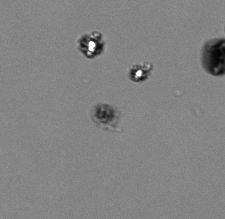Dead Cell: (202, 39, 224, 74), (94, 104, 115, 124)
Living Cell: (83, 36, 101, 58), (131, 65, 148, 81)
